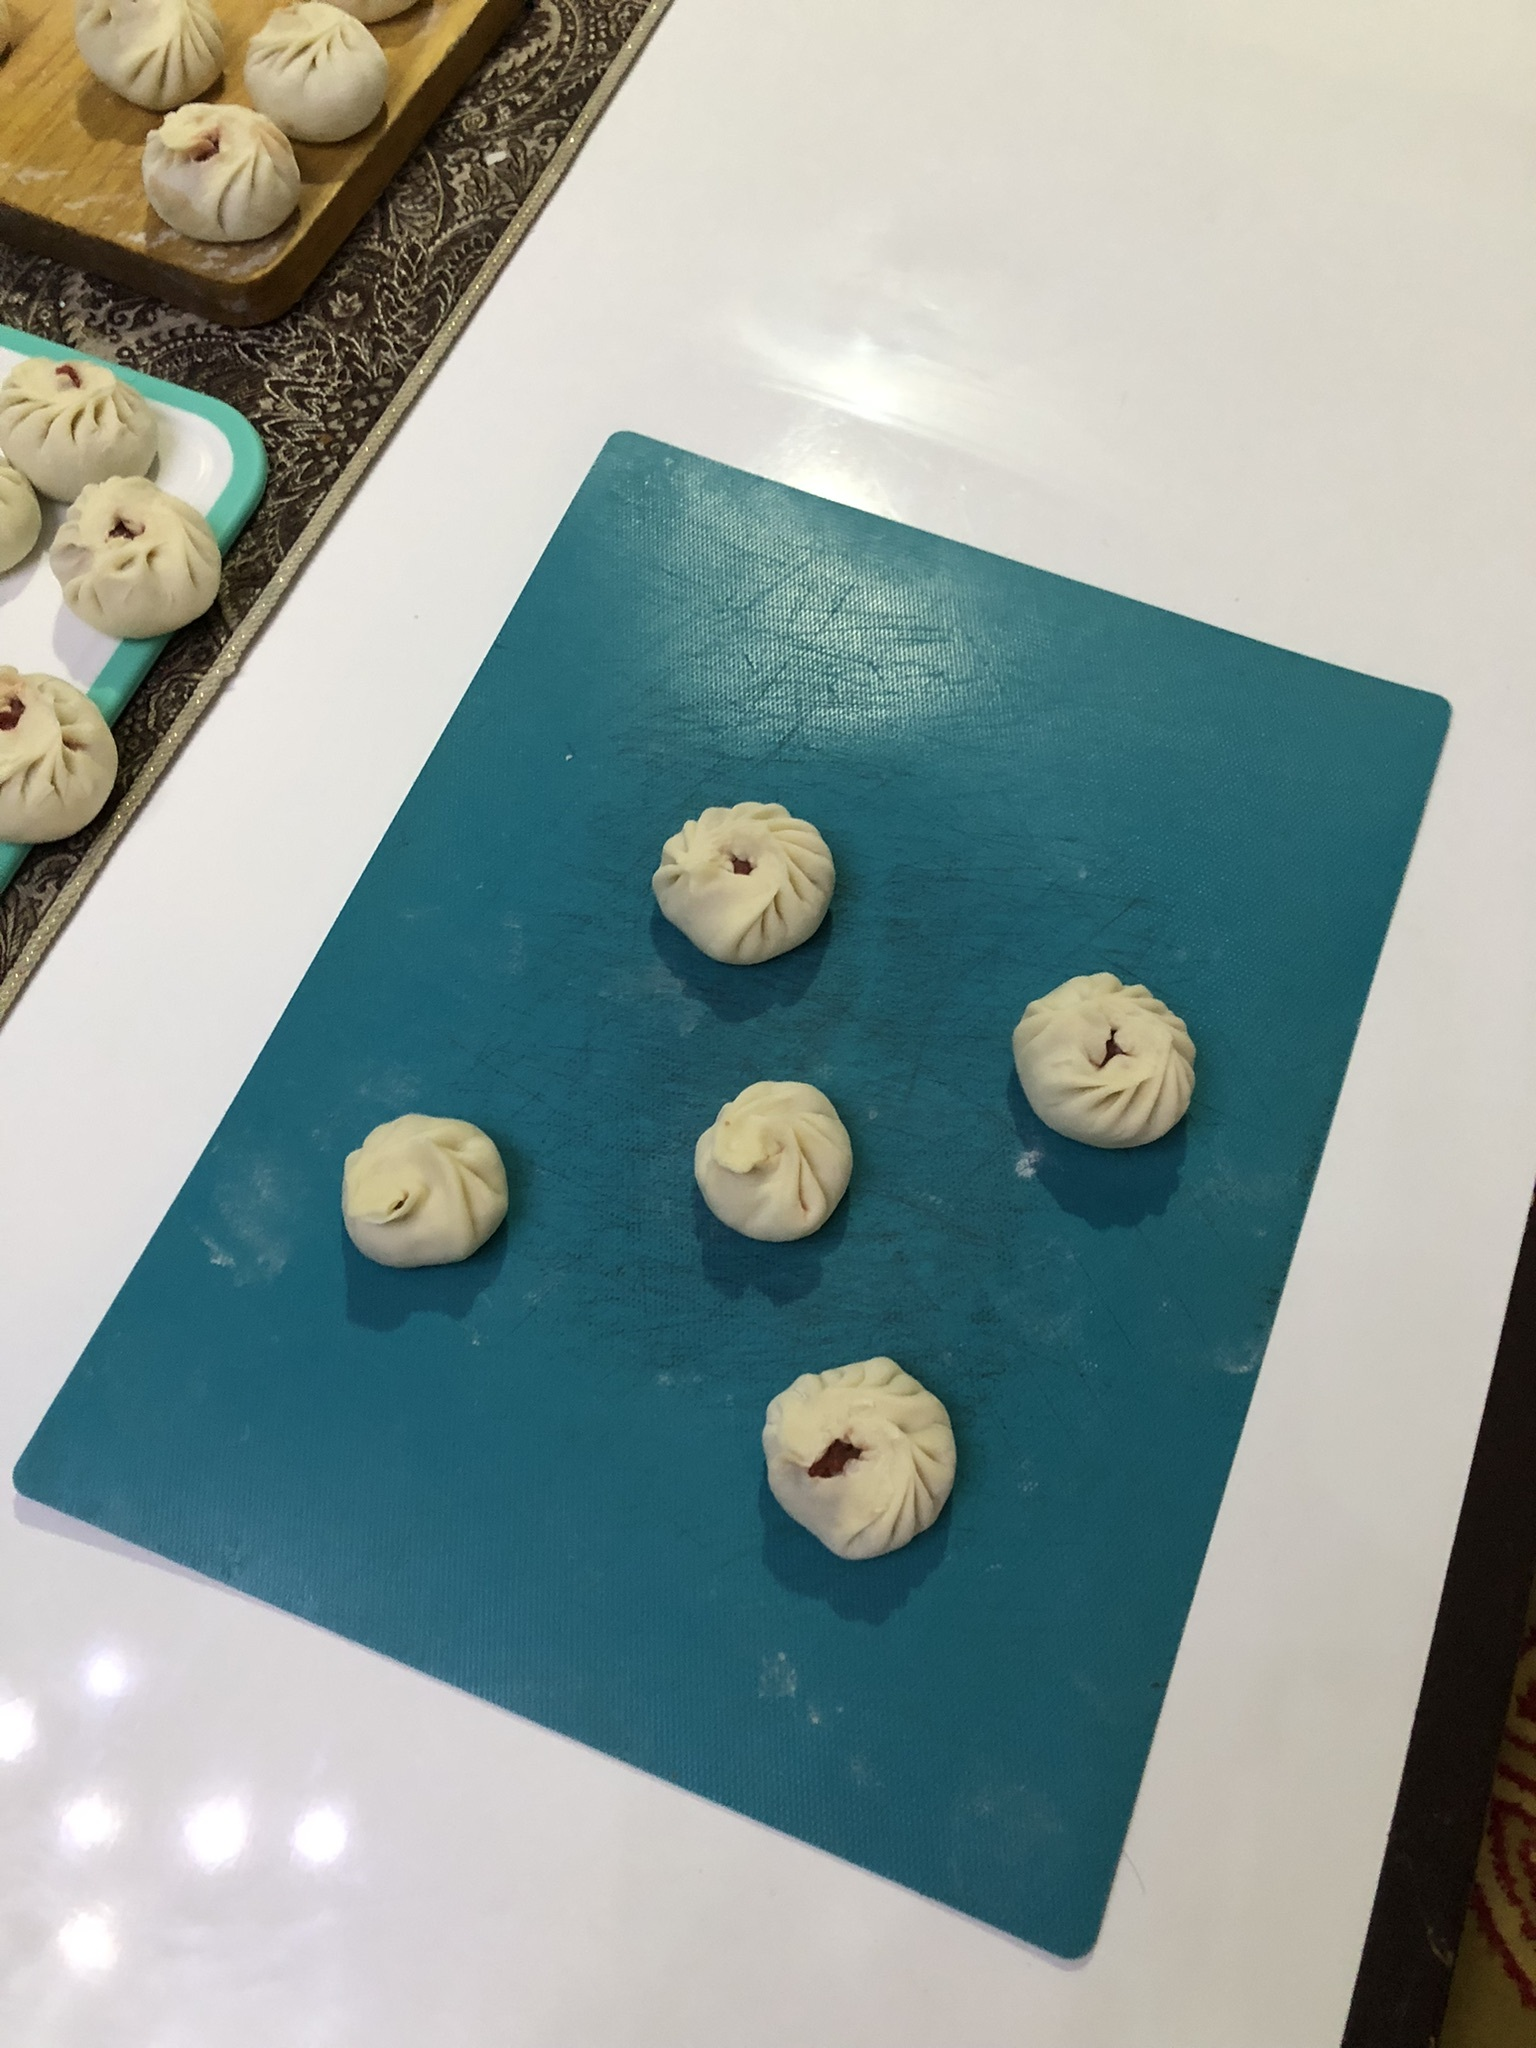buuz: (729, 1342, 971, 1580), (992, 959, 1210, 1171), (636, 793, 857, 974), (331, 1103, 536, 1284), (682, 1071, 874, 1251)
